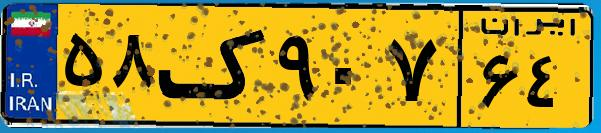0: (330, 28, 385, 110)
4: (525, 38, 570, 115)
5: (57, 26, 110, 100)
6: (475, 38, 525, 113)
7: (385, 28, 445, 110)
8: (110, 28, 158, 98)
9: (270, 28, 330, 110)
ک: (158, 12, 270, 120)
